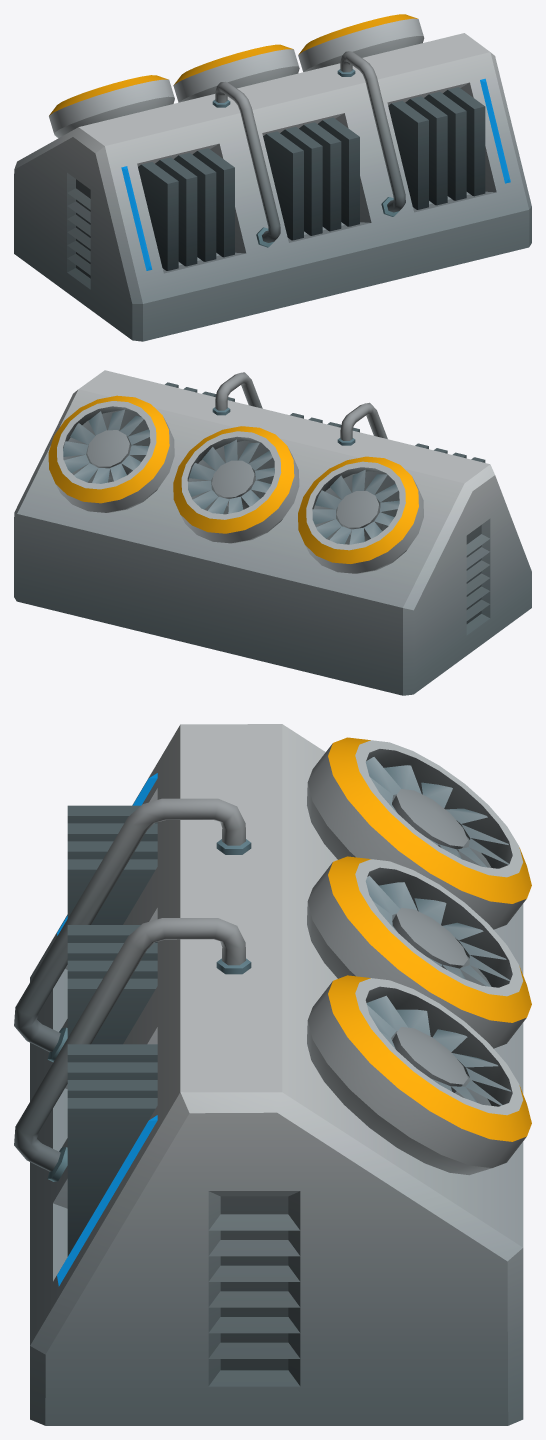
File: Ventilation_009.glb
3 renders of one model, top to bottom at view 1: azimuth 30°, elevation 25°; view 2: azimuth 150°, elevation 25°; view 3: azimuth 270°, elevation 25°, orthographic. The views are drawn at different scales.
Parts seen in each view (by area): view 1: Ventilation_009; view 2: Ventilation_009; view 3: Ventilation_009.
Boxes of the visible parts, x1,y1,x2,y2 form: Ventilation_009: [14, 14, 531, 341]; Ventilation_009: [14, 370, 531, 695]; Ventilation_009: [14, 724, 531, 1425].
Size of the model in its own units: 1.5 by 0.6917 by 0.8613.
Materials: 2 (2 with a texture image).
